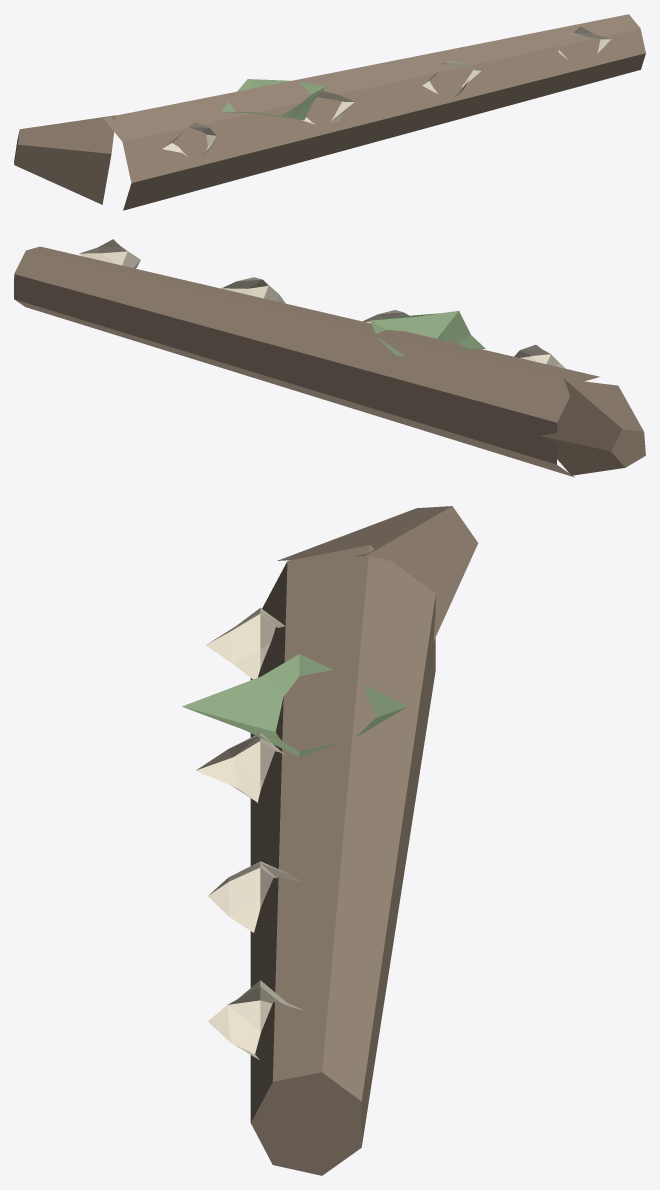
The model's file is log_v08.glb.
3 renders of one model, top to bottom at view 1: azimuth 30°, elevation 25°; view 2: azimuth 150°, elevation 25°; view 3: azimuth 270°, elevation 25°, orthographic. The views are drawn at different scales.
Parts seen in each view (by area): view 1: lod0; view 2: lod0; view 3: lod0.
Boxes of the visible parts, <box> form: lod0: <box>14,14,645,210</box>; lod0: <box>14,239,645,477</box>; lod0: <box>182,506,478,1175</box>.
Size of what is drawn, in the model's own units: 2.8 by 0.4377 by 0.6099.
